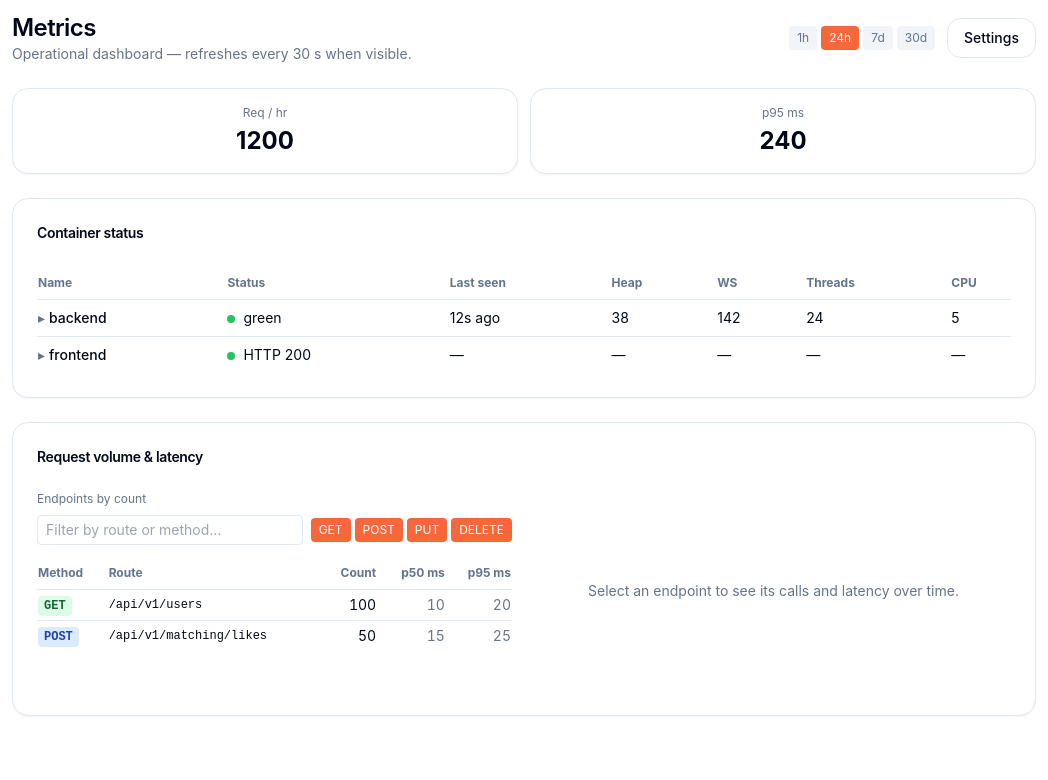
Test: AdminMetricsPage › clears the drill-down when the ✕ button is clicked
What coordinates should you click on to do the following:
click the text "/api/v1/users"
I would click on:
 (155, 605)
Its box is [108,590,326,620].
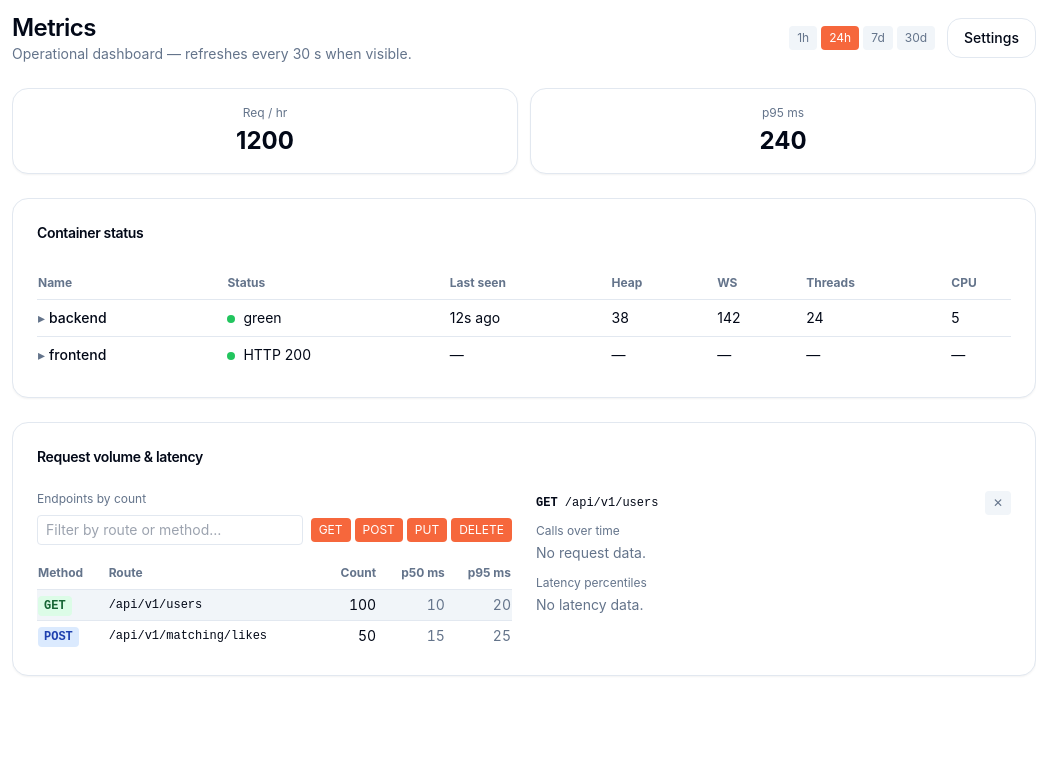
Now the text "Calls over time" is shown, box [536,523,620,538]
What coordinates should you click on to do the following:
click the button named "Clear endpoint selection"
I would click on:
 (998, 503)
Its box is [985,491,1011,515].
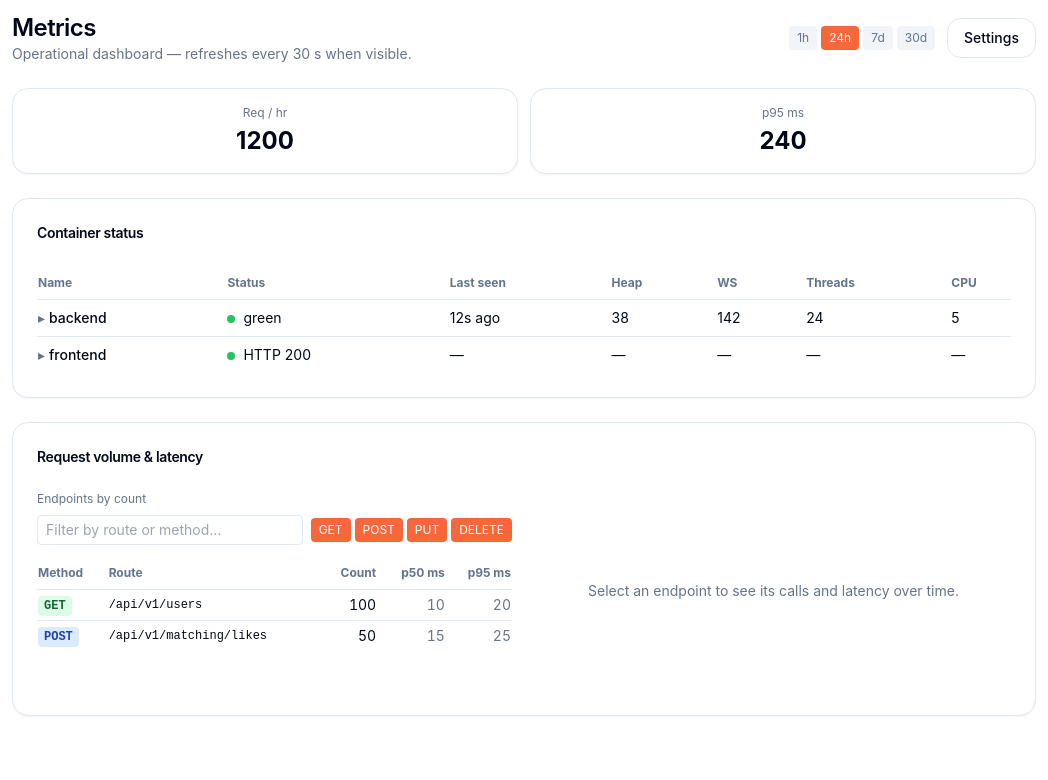
Now the text "Calls over time" is gone
Now the text "Select an endpoint to see its calls and latency over time." is shown, box [588,582,959,599]
